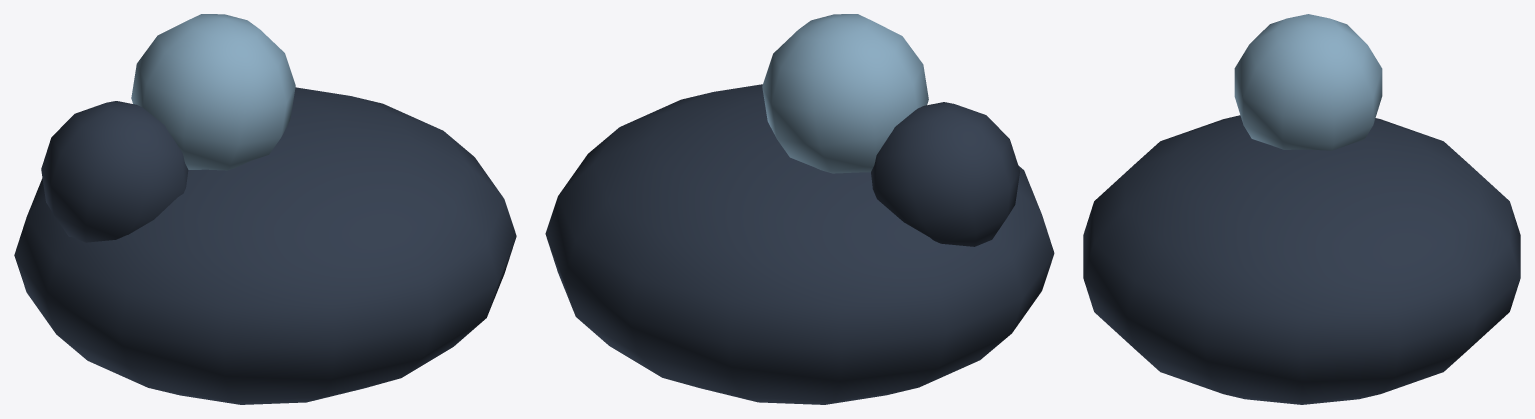
File: vendor_helper_hair.glb
3 renders of one model, left to right at view 1: azimuth 30°, elevation 25°; view 2: azimuth 150°, elevation 25°; view 3: azimuth 270°, elevation 25°, orthographic. The views are drawn at different scales.
Visible parts, largest first — view 1: hair_cap, hair_detail_2, hair_detail_1; view 2: hair_cap, hair_detail_2, hair_detail_1; view 3: hair_cap, hair_detail_2.
Boxes of the visible parts, x1,y1,x2,y2 form: hair_cap: (14,87,516,404); hair_detail_2: (131,14,295,170); hair_detail_1: (41,101,188,242); hair_cap: (545,84,1054,404); hair_detail_2: (762,14,928,173); hair_detail_1: (871,102,1020,246); hair_cap: (1083,115,1520,404); hair_detail_2: (1234,14,1382,150).
Bounding box in the file's own units: 0.728 × 0.5608 × 0.6824.
